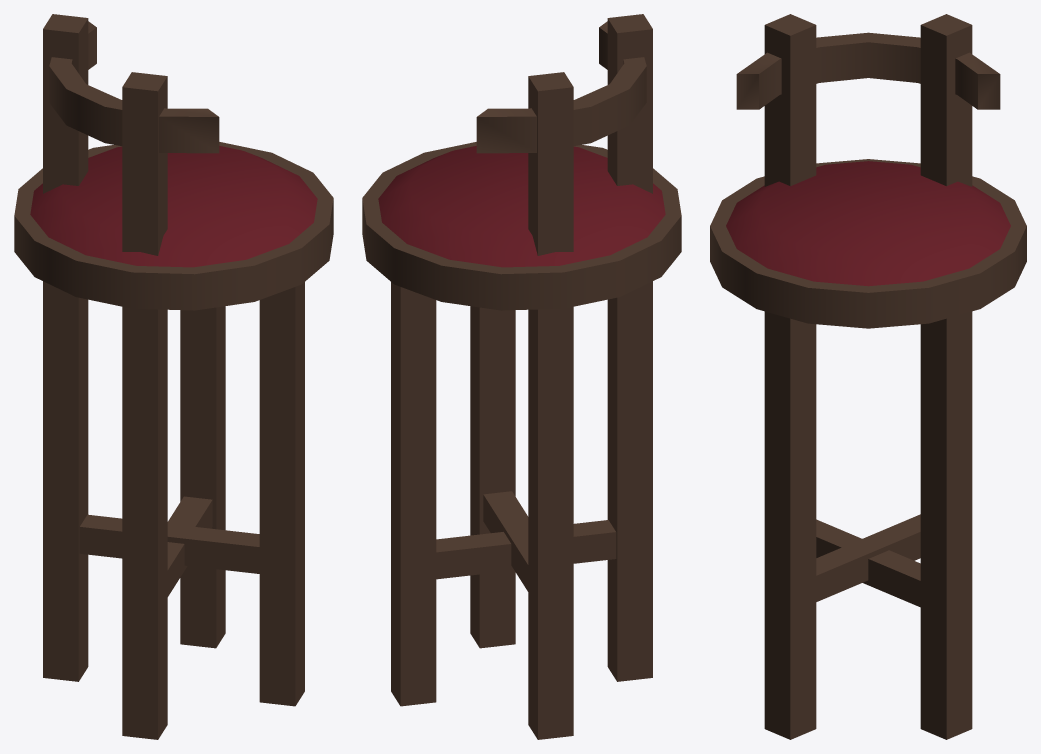
The model's file is S_Stool_02.fbx.
3 views of the same model, side by side, from view 1: azimuth 30°, elevation 25°; view 2: azimuth 150°, elevation 25°; view 3: azimuth 270°, elevation 25° (orthographic).
Visible parts, largest first — view 1: S_Stool_02; view 2: S_Stool_02; view 3: S_Stool_02.
Boxes of the visible parts, x1,y1,x2,y2 form: S_Stool_02: [14, 14, 333, 739]; S_Stool_02: [362, 14, 681, 739]; S_Stool_02: [710, 14, 1026, 739].
Size of the model in its own units: 52 by 116 by 52.
